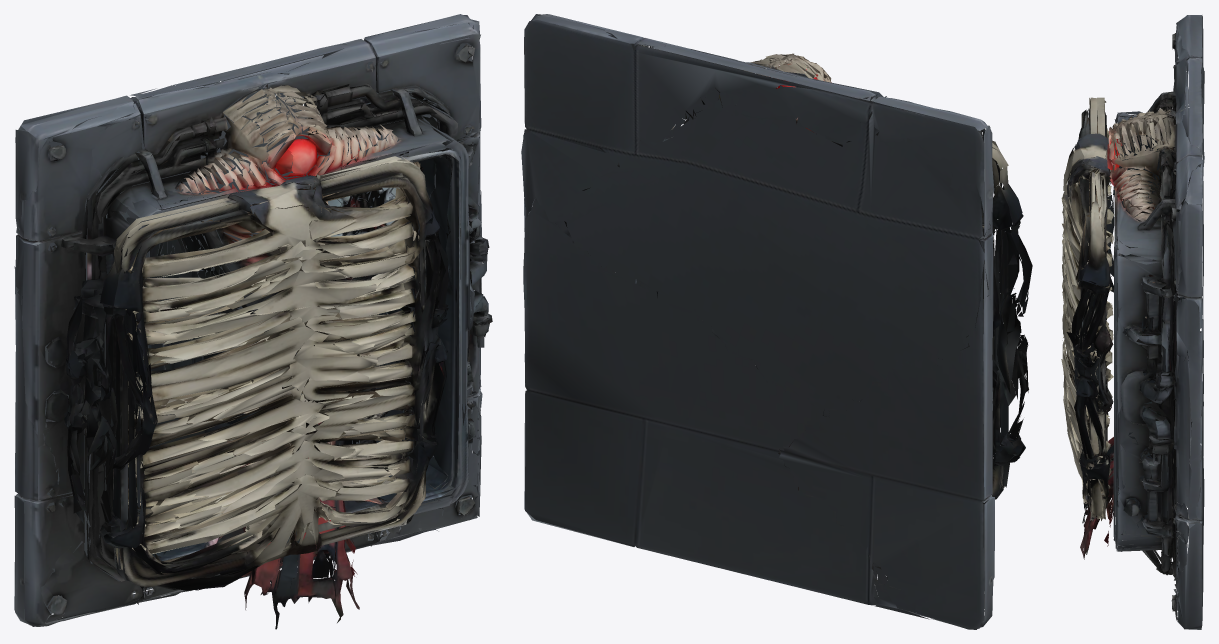
Rendered from life_ribcage_rescue_cabinet.glb.
3 views of the same model, side by side, from view 1: azimuth 30°, elevation 25°; view 2: azimuth 150°, elevation 25°; view 3: azimuth 270°, elevation 25° (orthographic). The views are drawn at different scales.
Parts seen in each view (by area): view 1: HB_BODY, HB_DOOR_00; view 2: HB_BODY, HB_DOOR_00; view 3: HB_BODY, HB_DOOR_00.
Part boxes in pixels (box(x1,y1,x2,y2)): HB_BODY: box(14, 14, 492, 629); HB_DOOR_00: box(86, 156, 448, 590); HB_BODY: box(521, 14, 1000, 629); HB_DOOR_00: box(777, 87, 1032, 499); HB_BODY: box(1080, 15, 1204, 629); HB_DOOR_00: box(1061, 97, 1114, 521).
Bounding box in the file's own units: 0.7216 × 0.7698 × 0.2249.
1 material, 1 textured.
